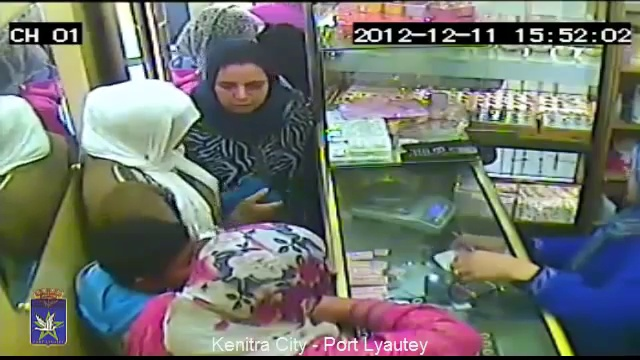face: (214, 69, 268, 116)
